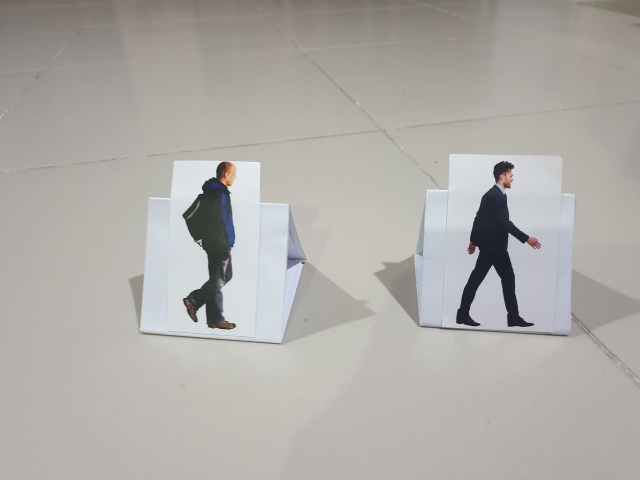Person: (448, 152, 550, 331), (173, 160, 252, 332)
